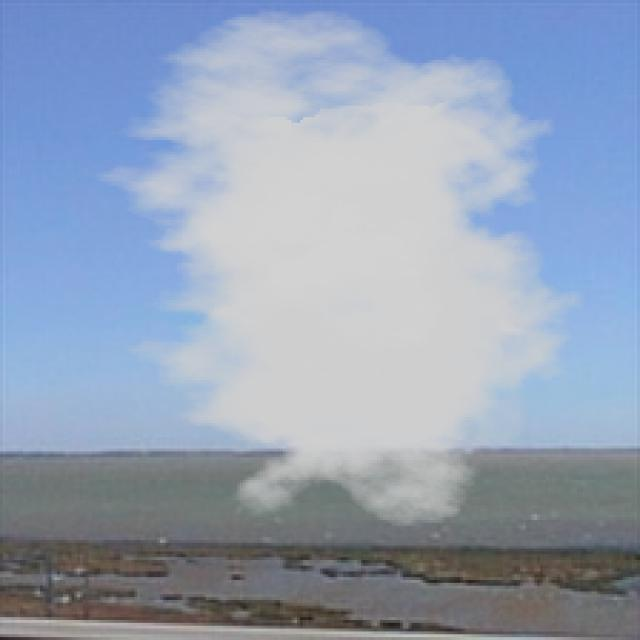Smoke: (71, 9, 594, 528)
